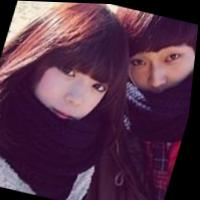NONE: (22, 55, 118, 137)
WRONG: (119, 36, 197, 115)
